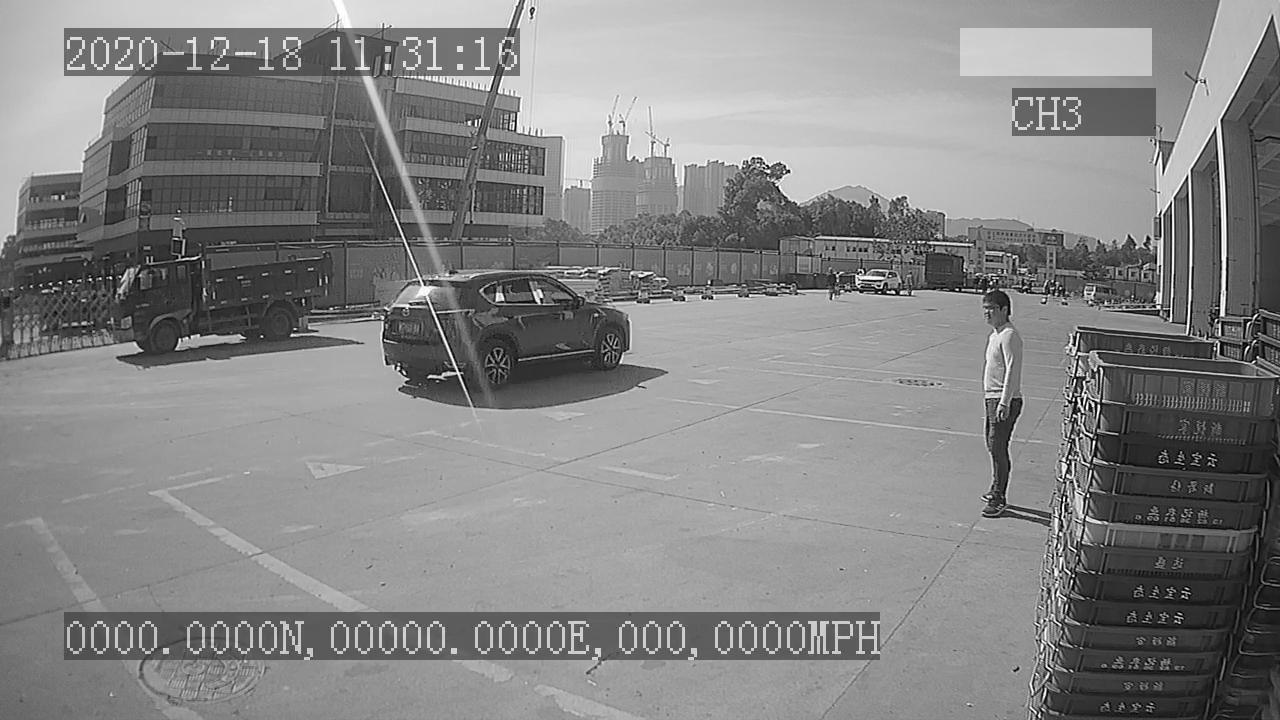person: (969, 287, 1029, 517)
